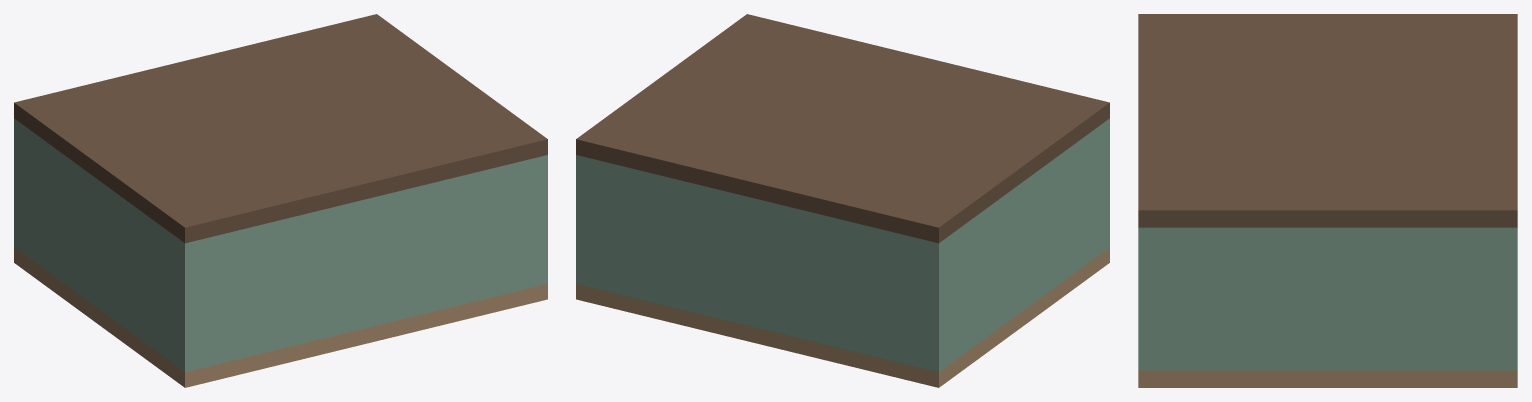
Rendered from tienda.glb.
3 renders of one model, left to right at view 1: azimuth 30°, elevation 25°; view 2: azimuth 150°, elevation 25°; view 3: azimuth 270°, elevation 25°, orthographic. The views are drawn at different scales.
Parts seen in each view (by area): view 1: Techo_interior, Pared_sur, Pared_oeste, Suelo, Pared_norte; view 2: Techo_interior, Pared_norte, Pared_oeste, Suelo, Pared_sur; view 3: Techo_interior, Pared_este, Suelo, Pared_norte, Pared_sur.
Part boxes in pixels (left/top/right/bottom): Techo_interior: left=14, top=14, right=547, bottom=243; Pared_sur: left=176, top=155, right=547, bottom=372; Pared_oeste: left=22, top=125, right=176, bottom=365; Suelo: left=14, top=247, right=547, bottom=387; Pared_norte: left=14, top=118, right=22, bottom=252; Techo_interior: left=576, top=14, right=1109, bottom=243; Pared_norte: left=576, top=155, right=947, bottom=372; Pared_oeste: left=947, top=125, right=1101, bottom=365; Suelo: left=576, top=247, right=1109, bottom=387; Pared_sur: left=1101, top=118, right=1109, bottom=252; Techo_interior: left=1138, top=14, right=1517, bottom=227; Pared_este: left=1157, top=227, right=1498, bottom=370; Suelo: left=1138, top=370, right=1517, bottom=387; Pared_norte: left=1498, top=227, right=1517, bottom=370; Pared_sur: left=1138, top=227, right=1157, bottom=370.
Bounding box in the file's own units: 10.9 × 4.6 × 8.9.
